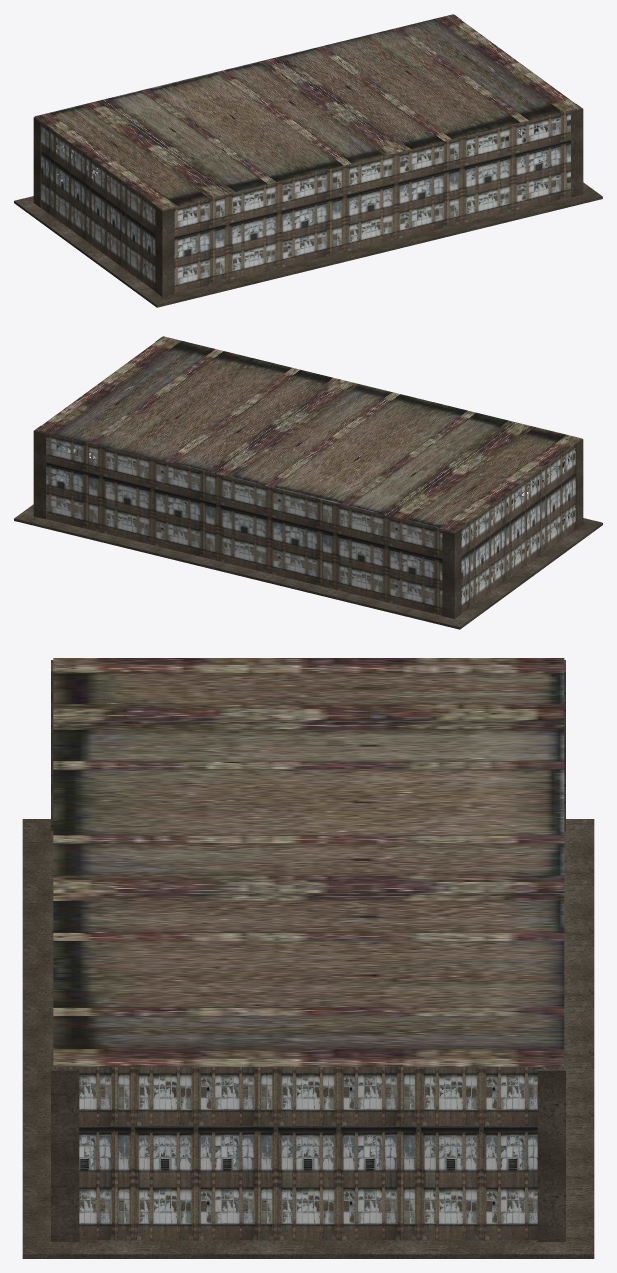
The model's file is BagSS08base_0.fbx.
3 views of the same model, one above another, from view 1: azimuth 30°, elevation 25°; view 2: azimuth 150°, elevation 25°; view 3: azimuth 270°, elevation 25° (orthographic). The views are drawn at different scales.
Visible parts, largest first — view 1: BaseBox0, Basefloor0; view 2: BaseBox0, Basefloor0; view 3: BaseBox0, Basefloor0.
Boxes of the visible parts, x1,y1,x2,y2 form: BaseBox0: (34,14,580,293); Basefloor0: (14,14,602,307); BaseBox0: (35,336,582,615); Basefloor0: (14,336,602,629); BaseBox0: (53,658,564,1240); Basefloor0: (22,660,594,1258).
Bounding box in the file's own units: 64.54 × 12.31 × 35.84.
